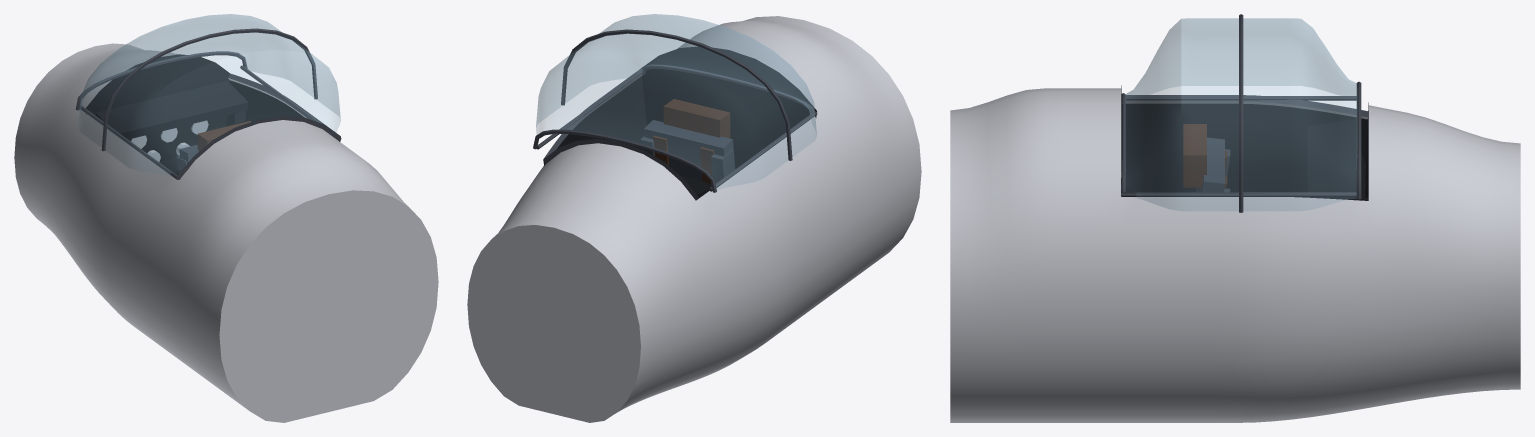
Rendered from cockpit_bubble.glb.
The picture shows the model from 3 angles, left to right: view 1: azimuth 30°, elevation 25°; view 2: azimuth 150°, elevation 25°; view 3: azimuth 270°, elevation 25°; orthographic projection. The views are drawn at different scales.
Parts seen in each view (by area): view 1: cockpit_bubble, cockpit_bubble_Glas; view 2: cockpit_bubble, cockpit_bubble_Glas; view 3: cockpit_bubble, cockpit_bubble_Glas.
Part boxes in pixels (bbox=[...]): cockpit_bubble: bbox=[14, 43, 438, 422]; cockpit_bubble_Glas: bbox=[75, 14, 341, 179]; cockpit_bubble: bbox=[467, 16, 921, 422]; cockpit_bubble_Glas: bbox=[533, 14, 817, 192]; cockpit_bubble: bbox=[950, 85, 1520, 422]; cockpit_bubble_Glas: bbox=[1121, 14, 1361, 212].
Bounding box in the file's own units: 1.3 × 1.65 × 2.4.
